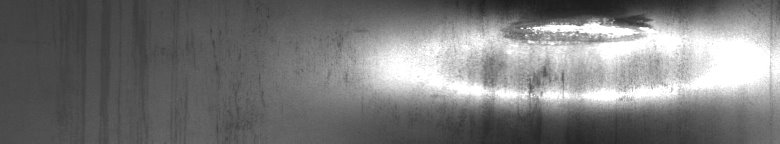ke: (478, 8, 654, 120)
